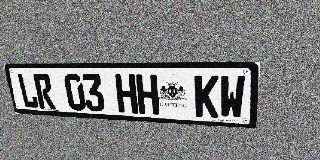0: (63, 74, 86, 111)
3: (82, 74, 105, 112)
H: (115, 74, 138, 114), (136, 75, 159, 115)
K: (195, 75, 219, 118)
L: (16, 74, 39, 108)
R: (33, 74, 56, 109)
W: (219, 75, 246, 119)
